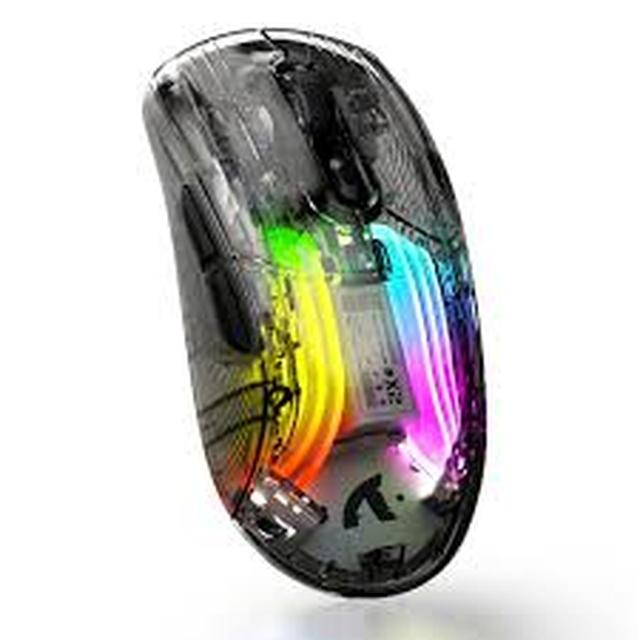mouse: (109, 16, 525, 608)
